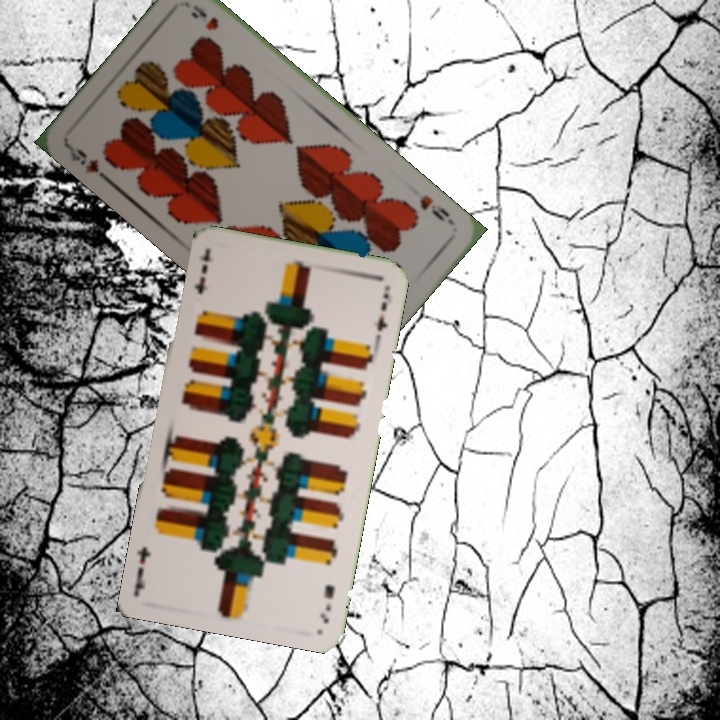E7: (315, 580, 337, 626), (190, 260, 210, 296)
H9: (63, 141, 113, 185), (415, 190, 452, 224)
